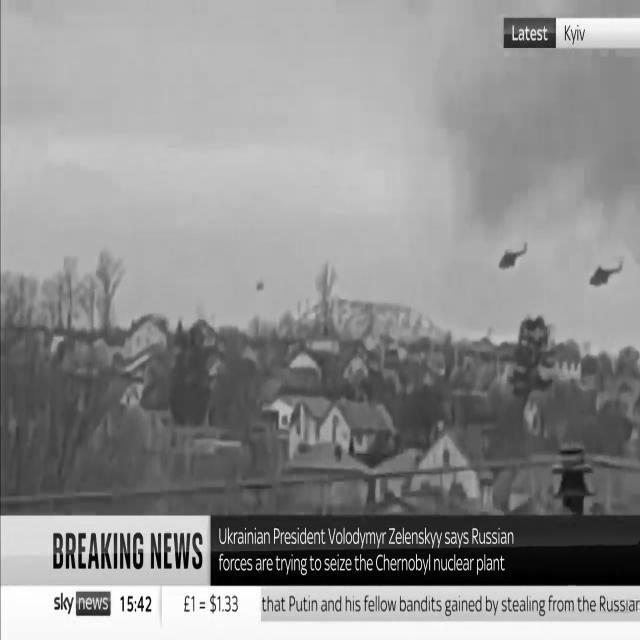helikopter: (582, 227, 630, 314), (491, 220, 541, 296)
